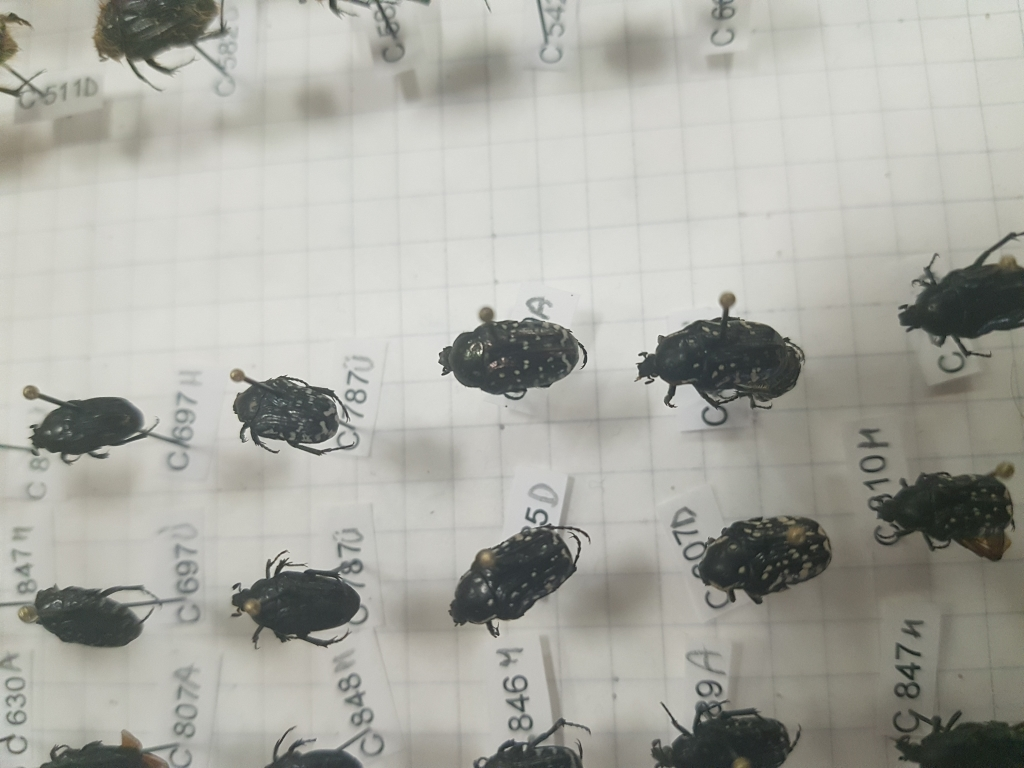Oxythyrea_albopicta: (433, 312, 593, 403)
